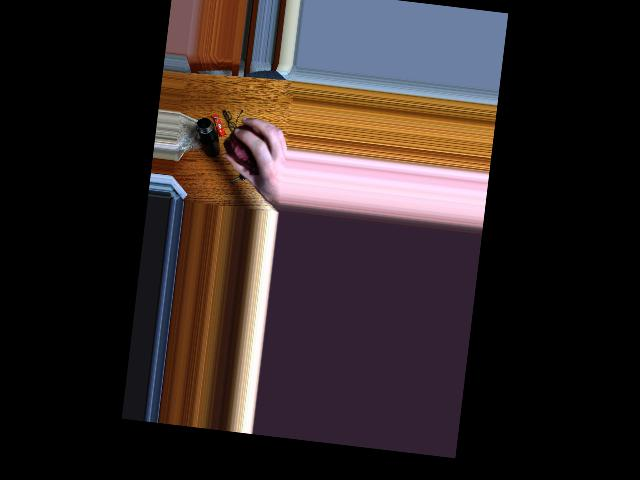onion: (225, 125, 264, 171)
